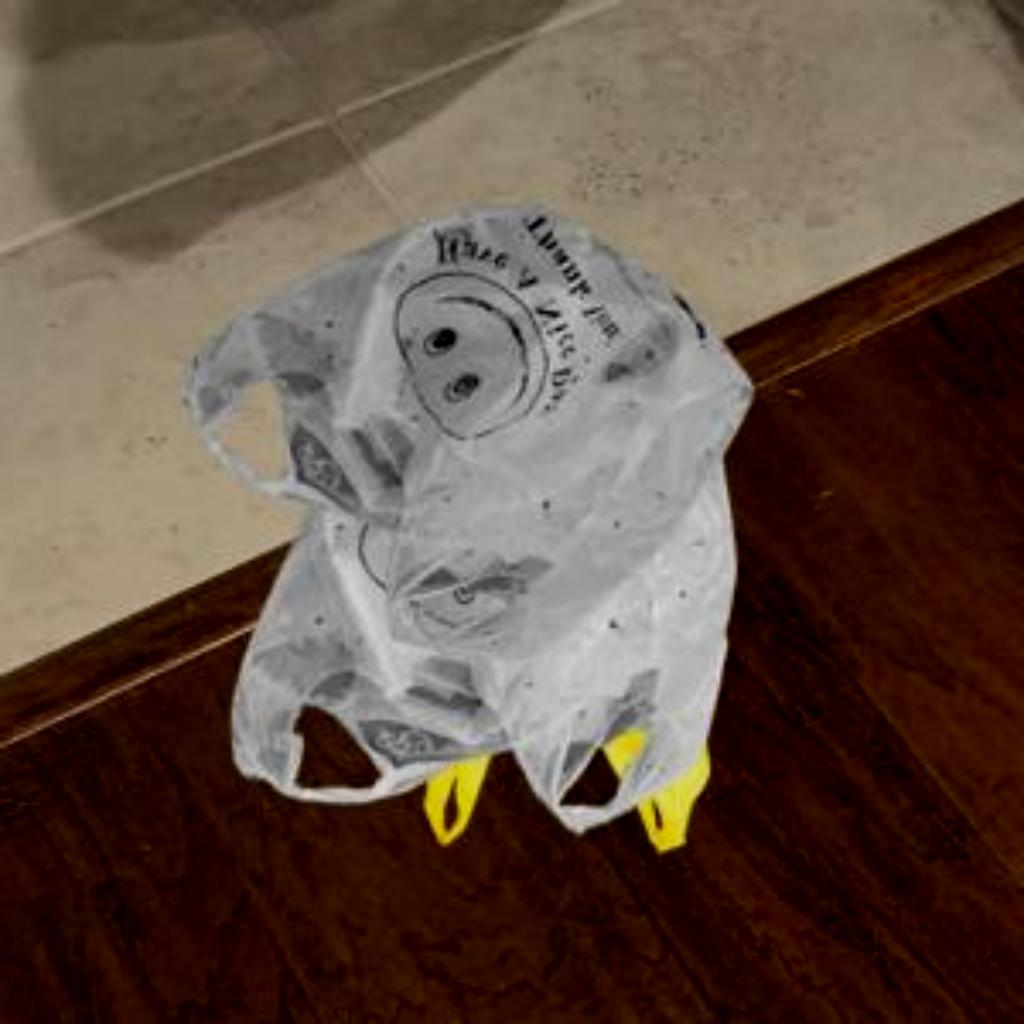garbage: (159, 208, 777, 870)
